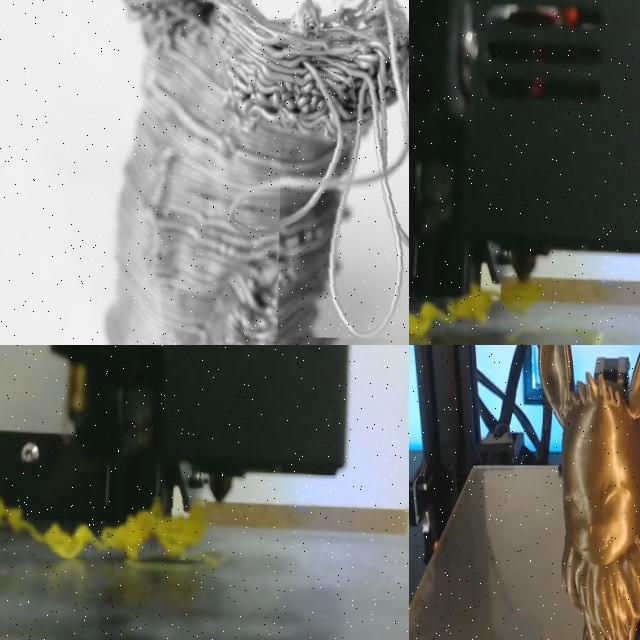spaghetti: (279, 6, 409, 338), (0, 499, 204, 559), (409, 284, 494, 335), (500, 280, 541, 312)
